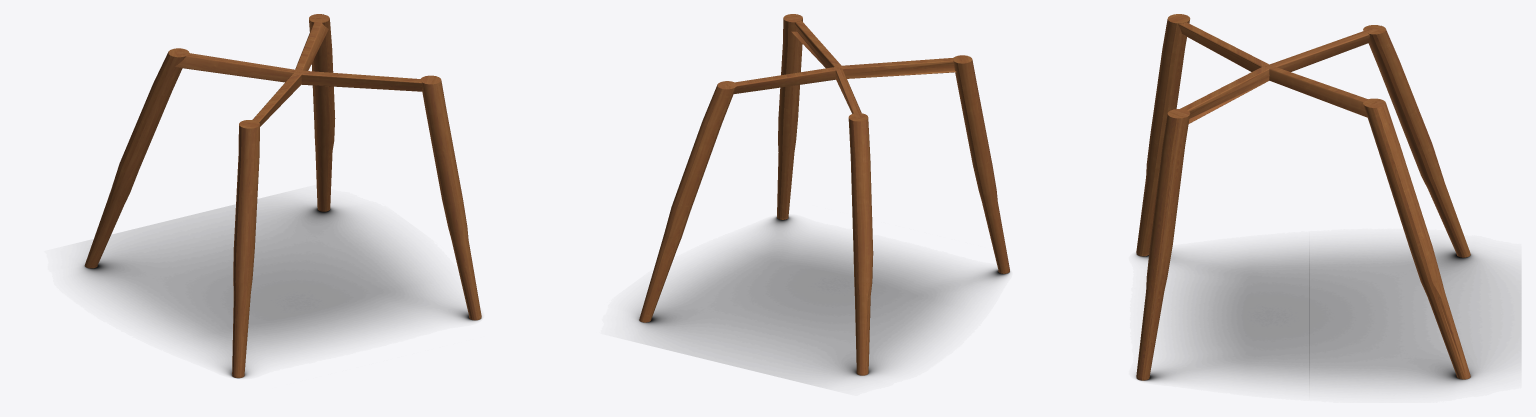
The model's file is drewniane.glb.
3 renders of one model, left to right at view 1: azimuth 30°, elevation 25°; view 2: azimuth 150°, elevation 25°; view 3: azimuth 270°, elevation 25°, orthographic. The views are drawn at different scales.
Visible parts, largest first — view 1: Shadow_okrągłe, legs.016; view 2: Shadow_okrągłe, legs.016; view 3: Shadow_okrągłe, legs.016.
Boxes of the visible parts, x1,y1,x2,y2 form: Shadow_okrągłe: [79, 201, 481, 378]; legs.016: [85, 14, 481, 377]; Shadow_okrągłe: [633, 216, 1010, 379]; legs.016: [639, 14, 1009, 375]; Shadow_okrągłe: [1135, 245, 1520, 386]; legs.016: [1136, 14, 1470, 380].
Size of the model in its own units: 0.5956 by 0.3977 by 0.6133.
Materials: 2 (2 with a texture image).
